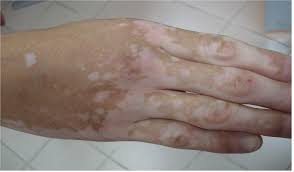vitiligo: (14, 31, 208, 135)
